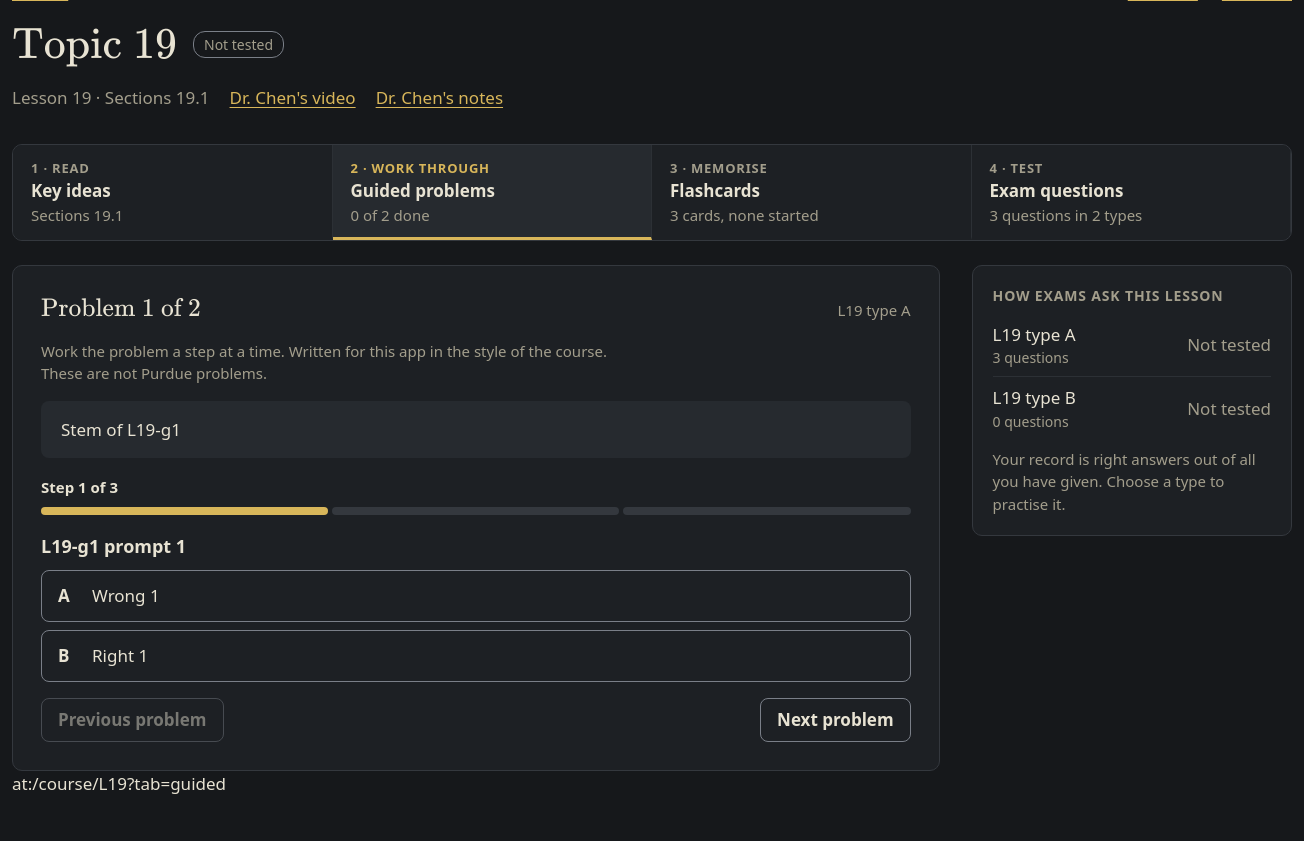
Test: a guided problem half worked is still half worked after a look at another tab or problem
This screenshot has width=1304, height=841.
Expected: the text "Stem of L19-g1" is shown, x1=61 y1=418 x2=181 y2=440
Click the button "A Wrong 1" at (126, 595), box x1=41 y1=570 x2=911 y2=622
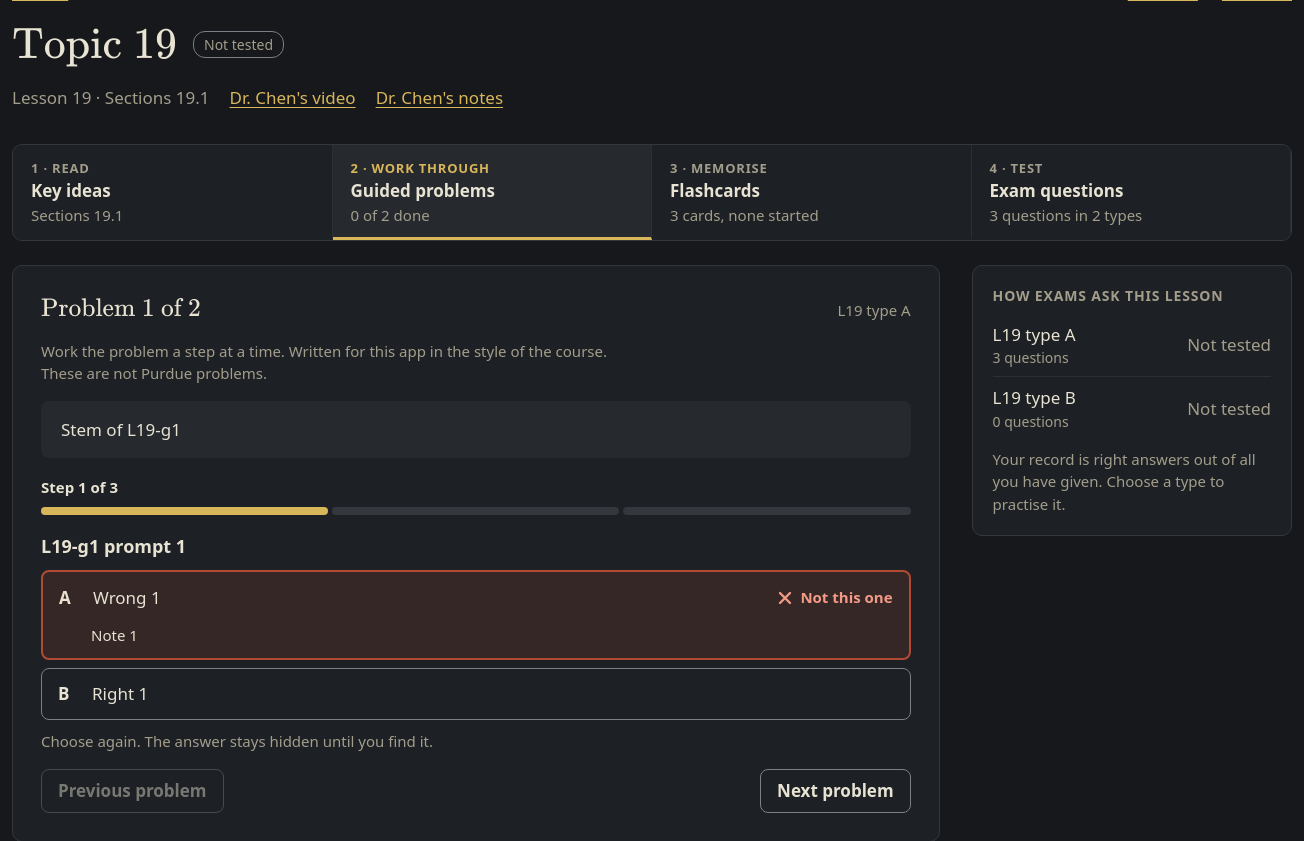
Click the button "B Right 1" at (120, 694), box x1=41 y1=668 x2=911 y2=720
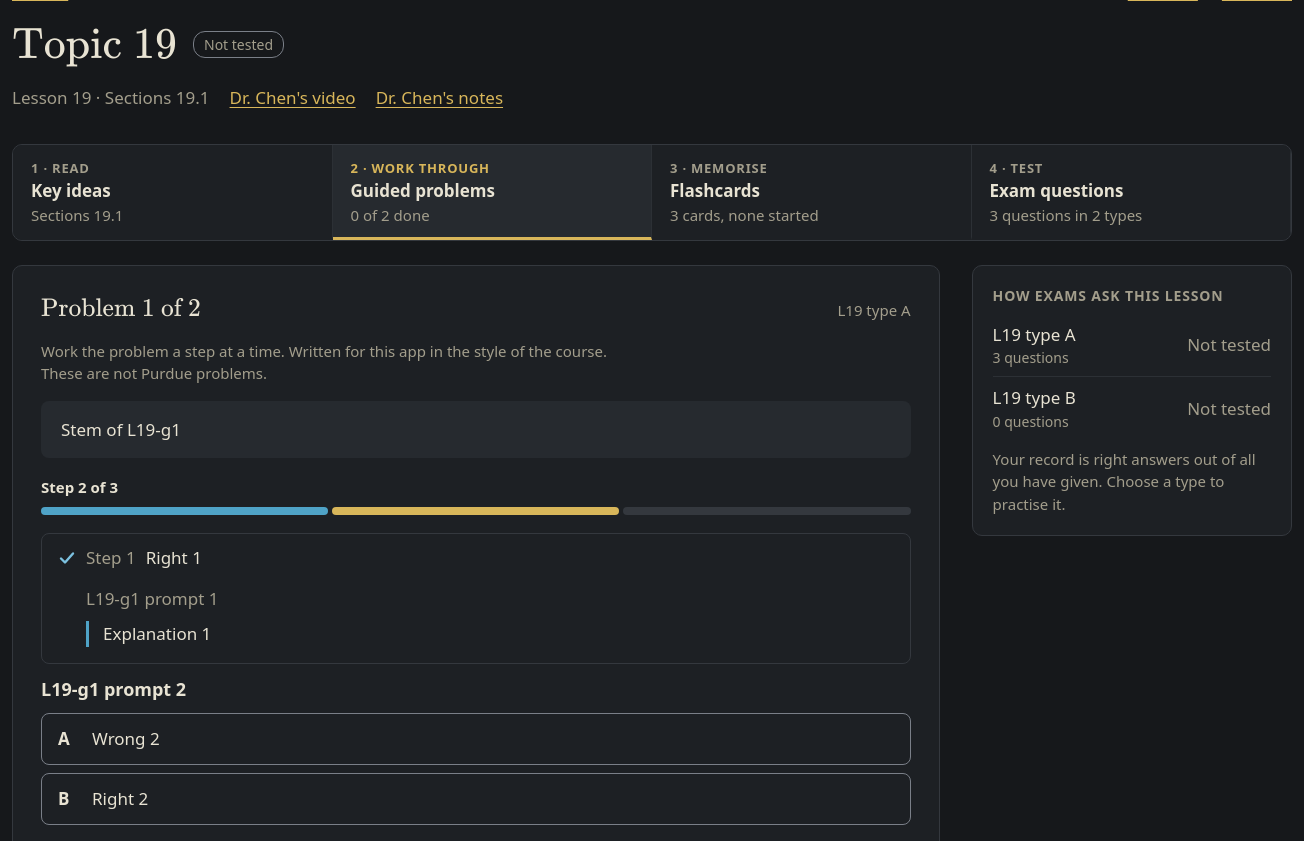
Expected: the text "Step 2 of 3" is shown, x1=41 y1=477 x2=118 y2=497
Click the tab "1 · Read Key ideas Sections 19.1" at (60, 168), box x1=13 y1=145 x2=332 y2=240
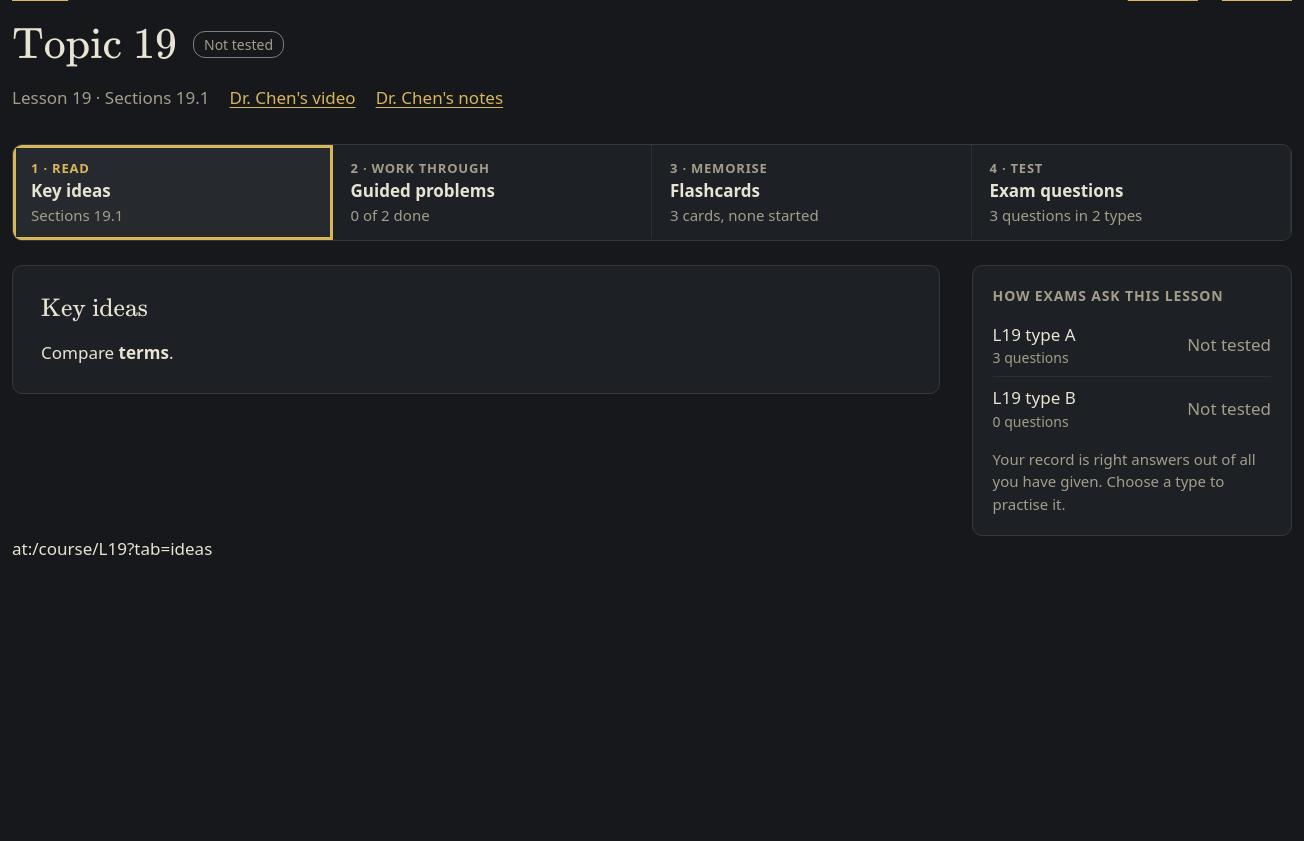
Expected: the text "Stem of L19-g1" is gone
Click the tab "2 · Work through Guided problems 0 of 2 done" at (492, 192), box x1=332 y1=145 x2=652 y2=240
(page scrolled)
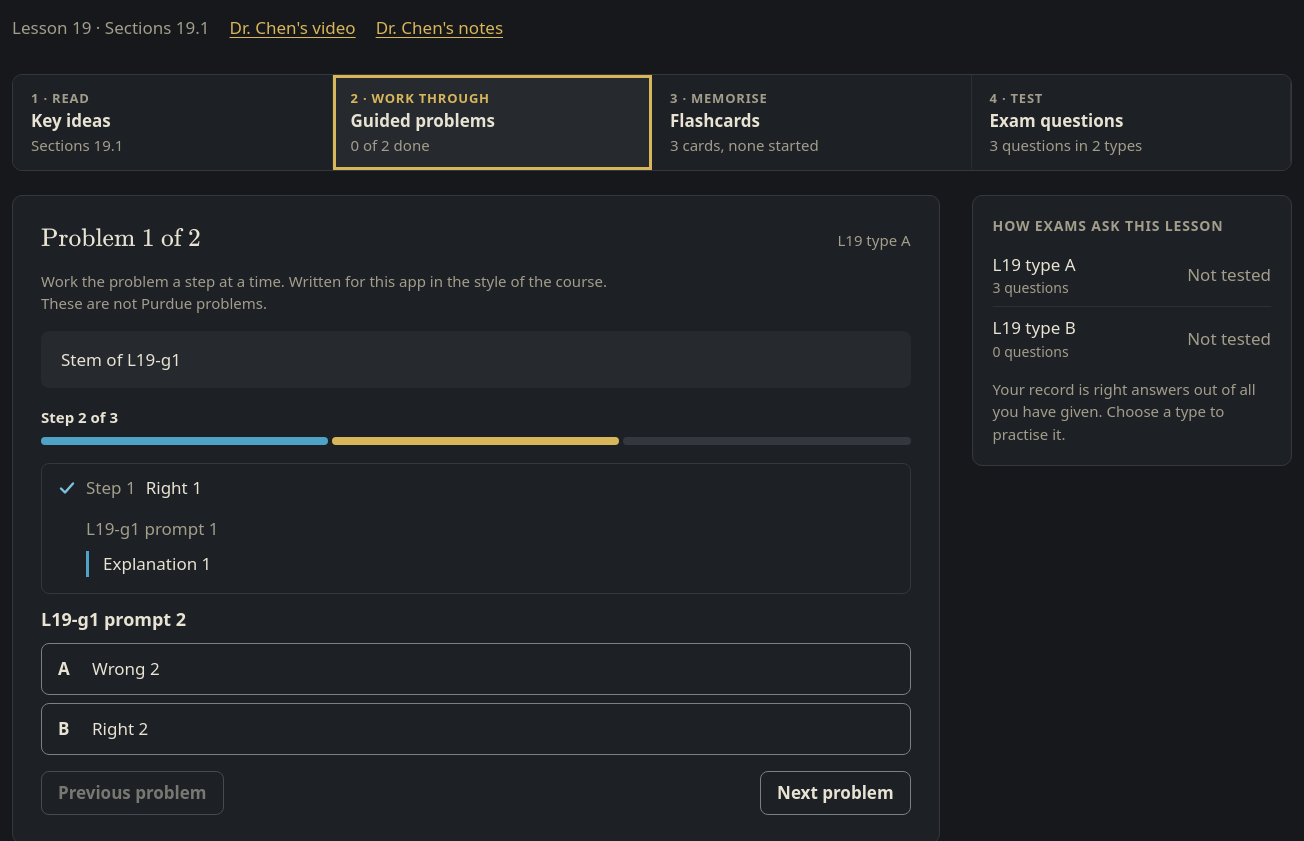
Expected: the text "Step 2 of 3" is shown, x1=41 y1=407 x2=118 y2=427
Expected: the text "L19-g1 prompt 2" is shown, x1=41 y1=606 x2=186 y2=630
Click the button "Next problem" at (835, 792), box x1=760 y1=770 x2=911 y2=814
(page scrolled)
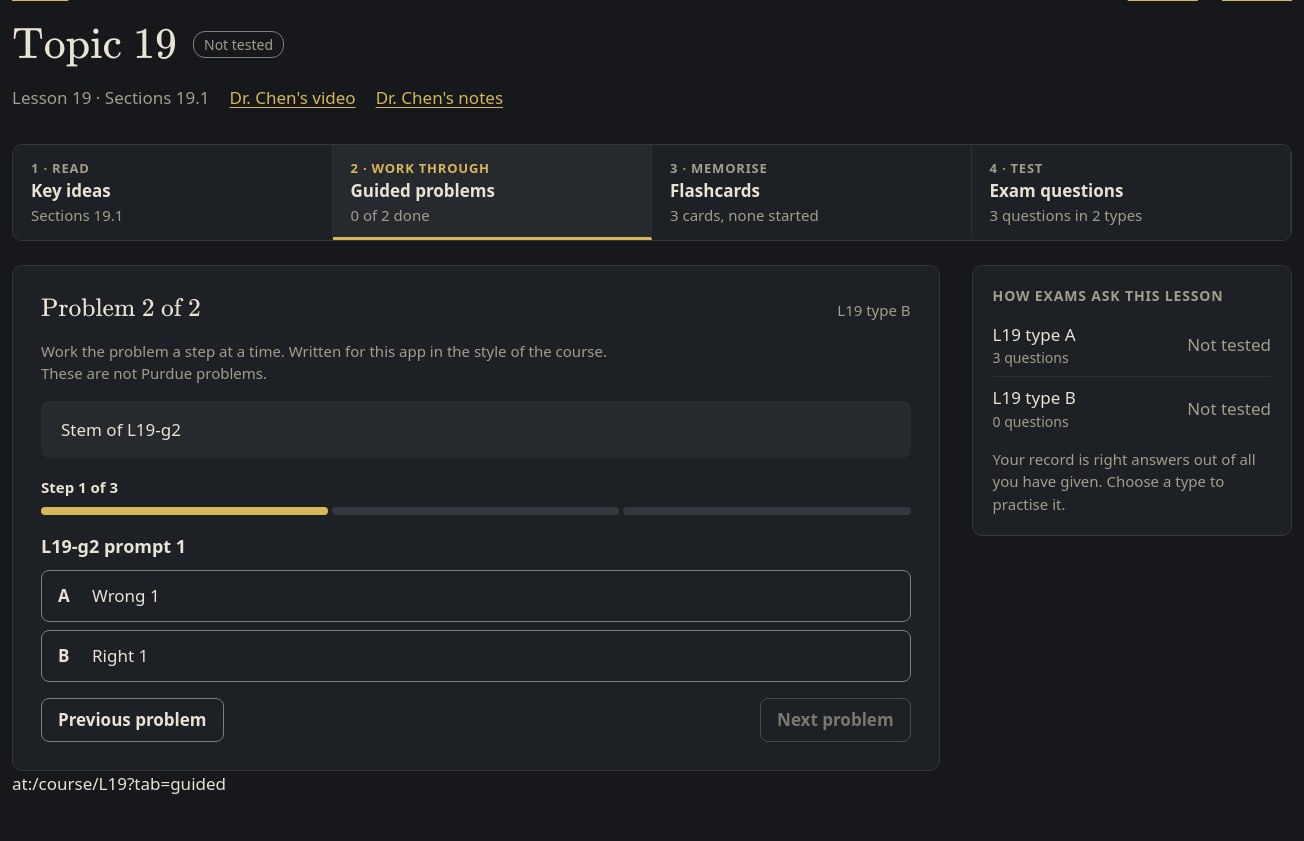
Expected: the text "Step 1 of 3" is shown, x1=41 y1=477 x2=118 y2=497
Click the button "Previous problem" at (132, 720), box x1=41 y1=698 x2=224 y2=742
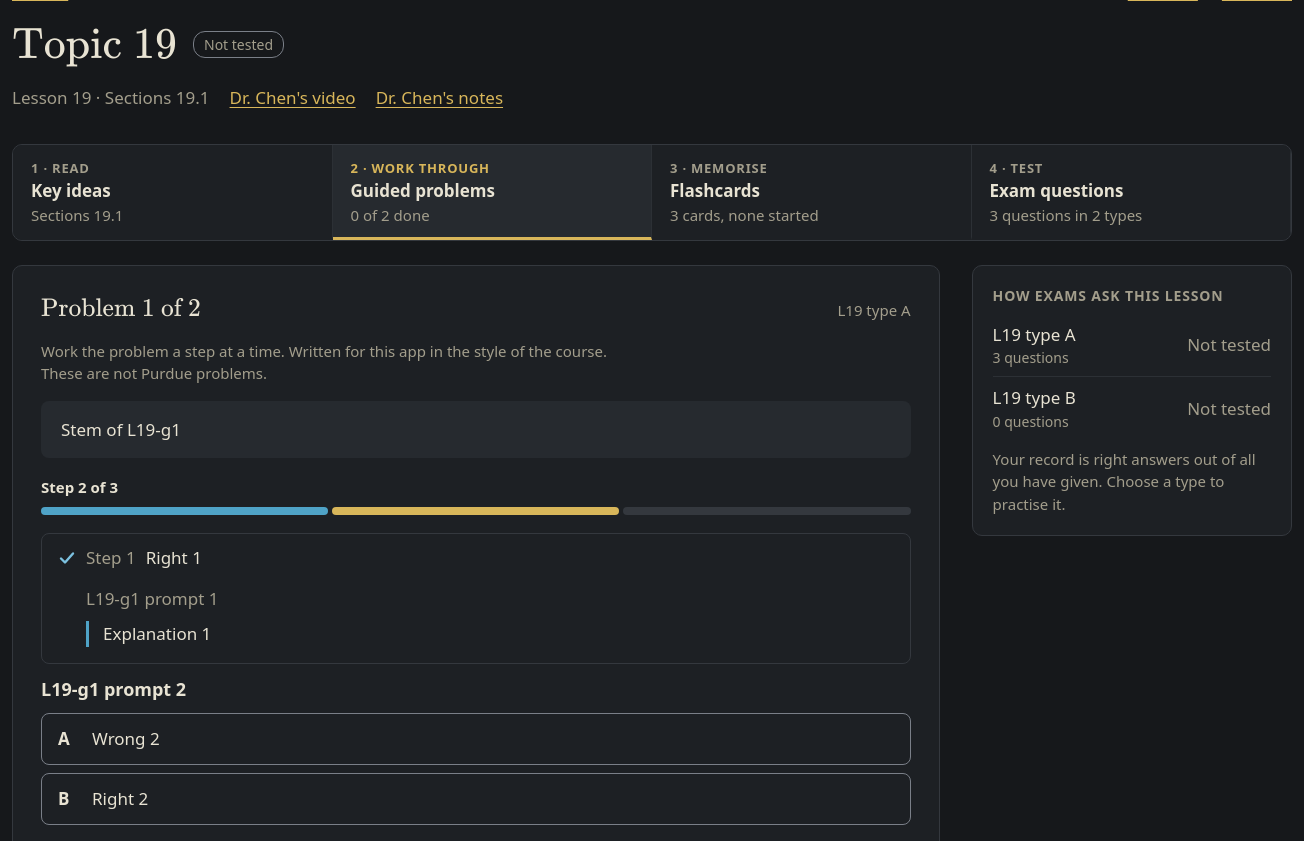
Expected: the text "L19-g1 prompt 2" is shown, x1=41 y1=676 x2=186 y2=700
